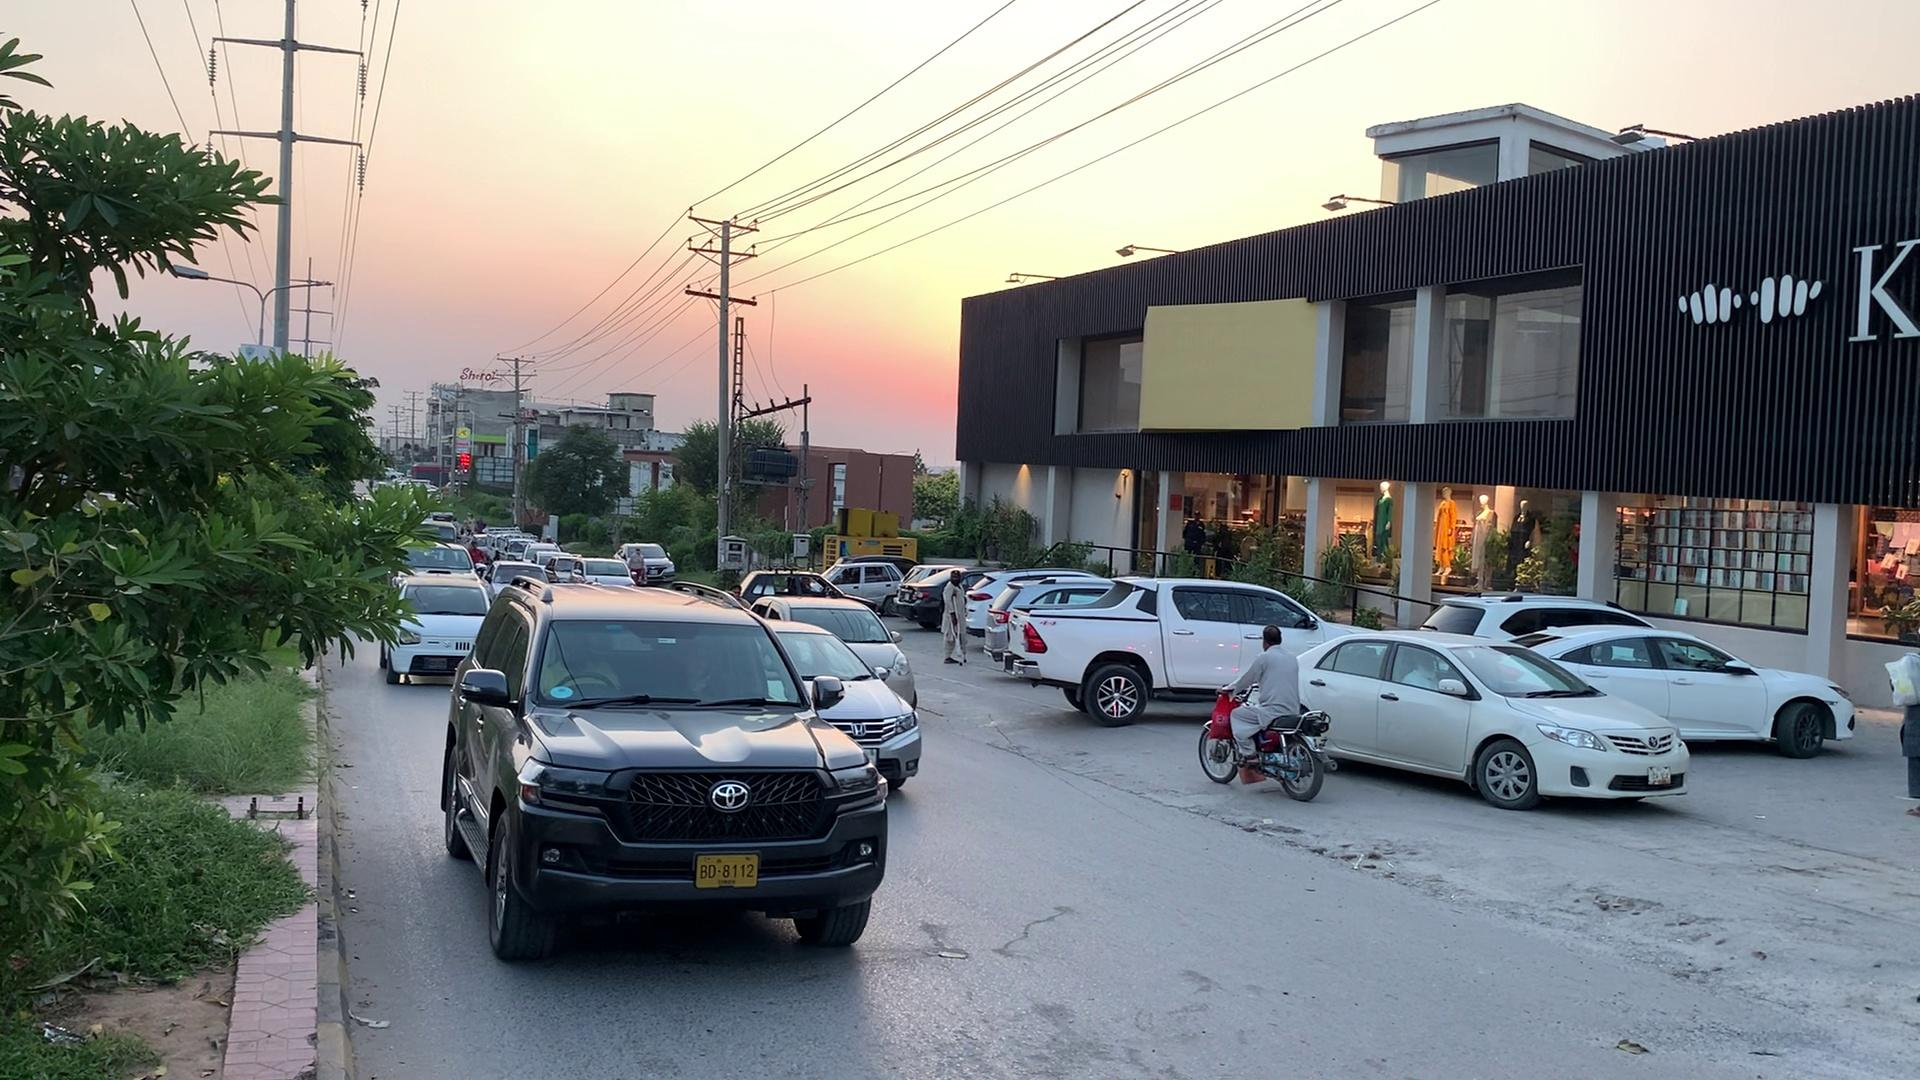windshield: (522, 607, 815, 732)
